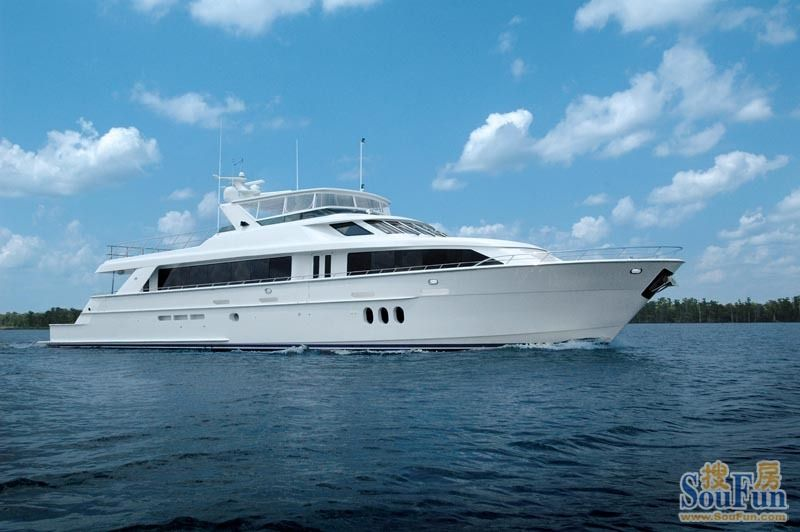yacht: (40, 136, 683, 353)
